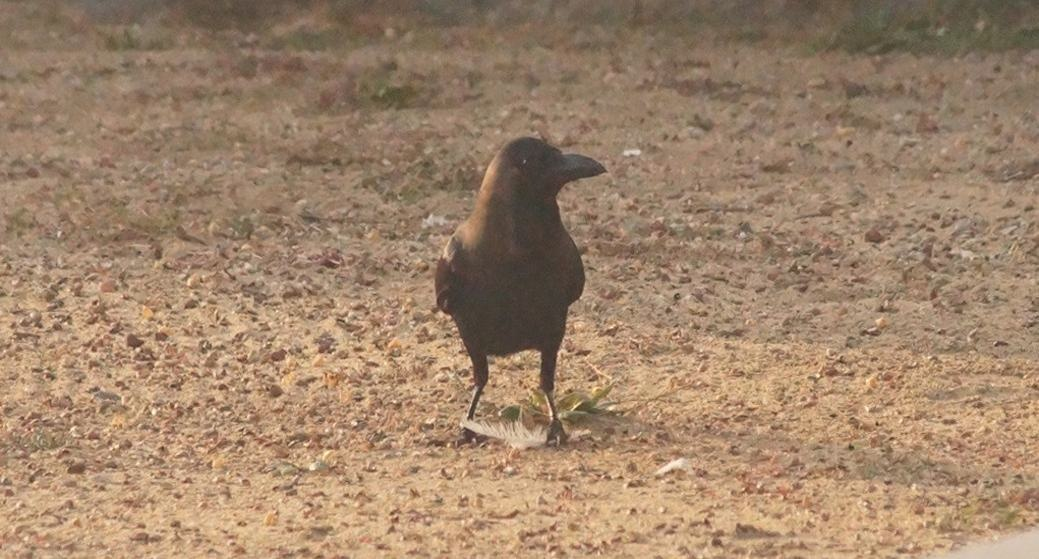crow: (435, 126, 624, 455)
